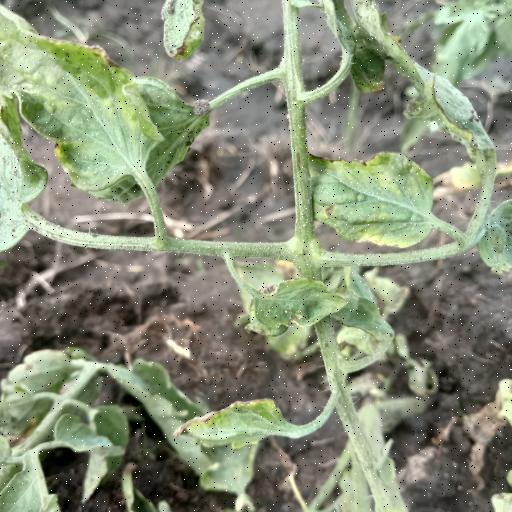Tomato_Brown_Spots: (0, 3, 166, 195), (298, 150, 444, 250)
